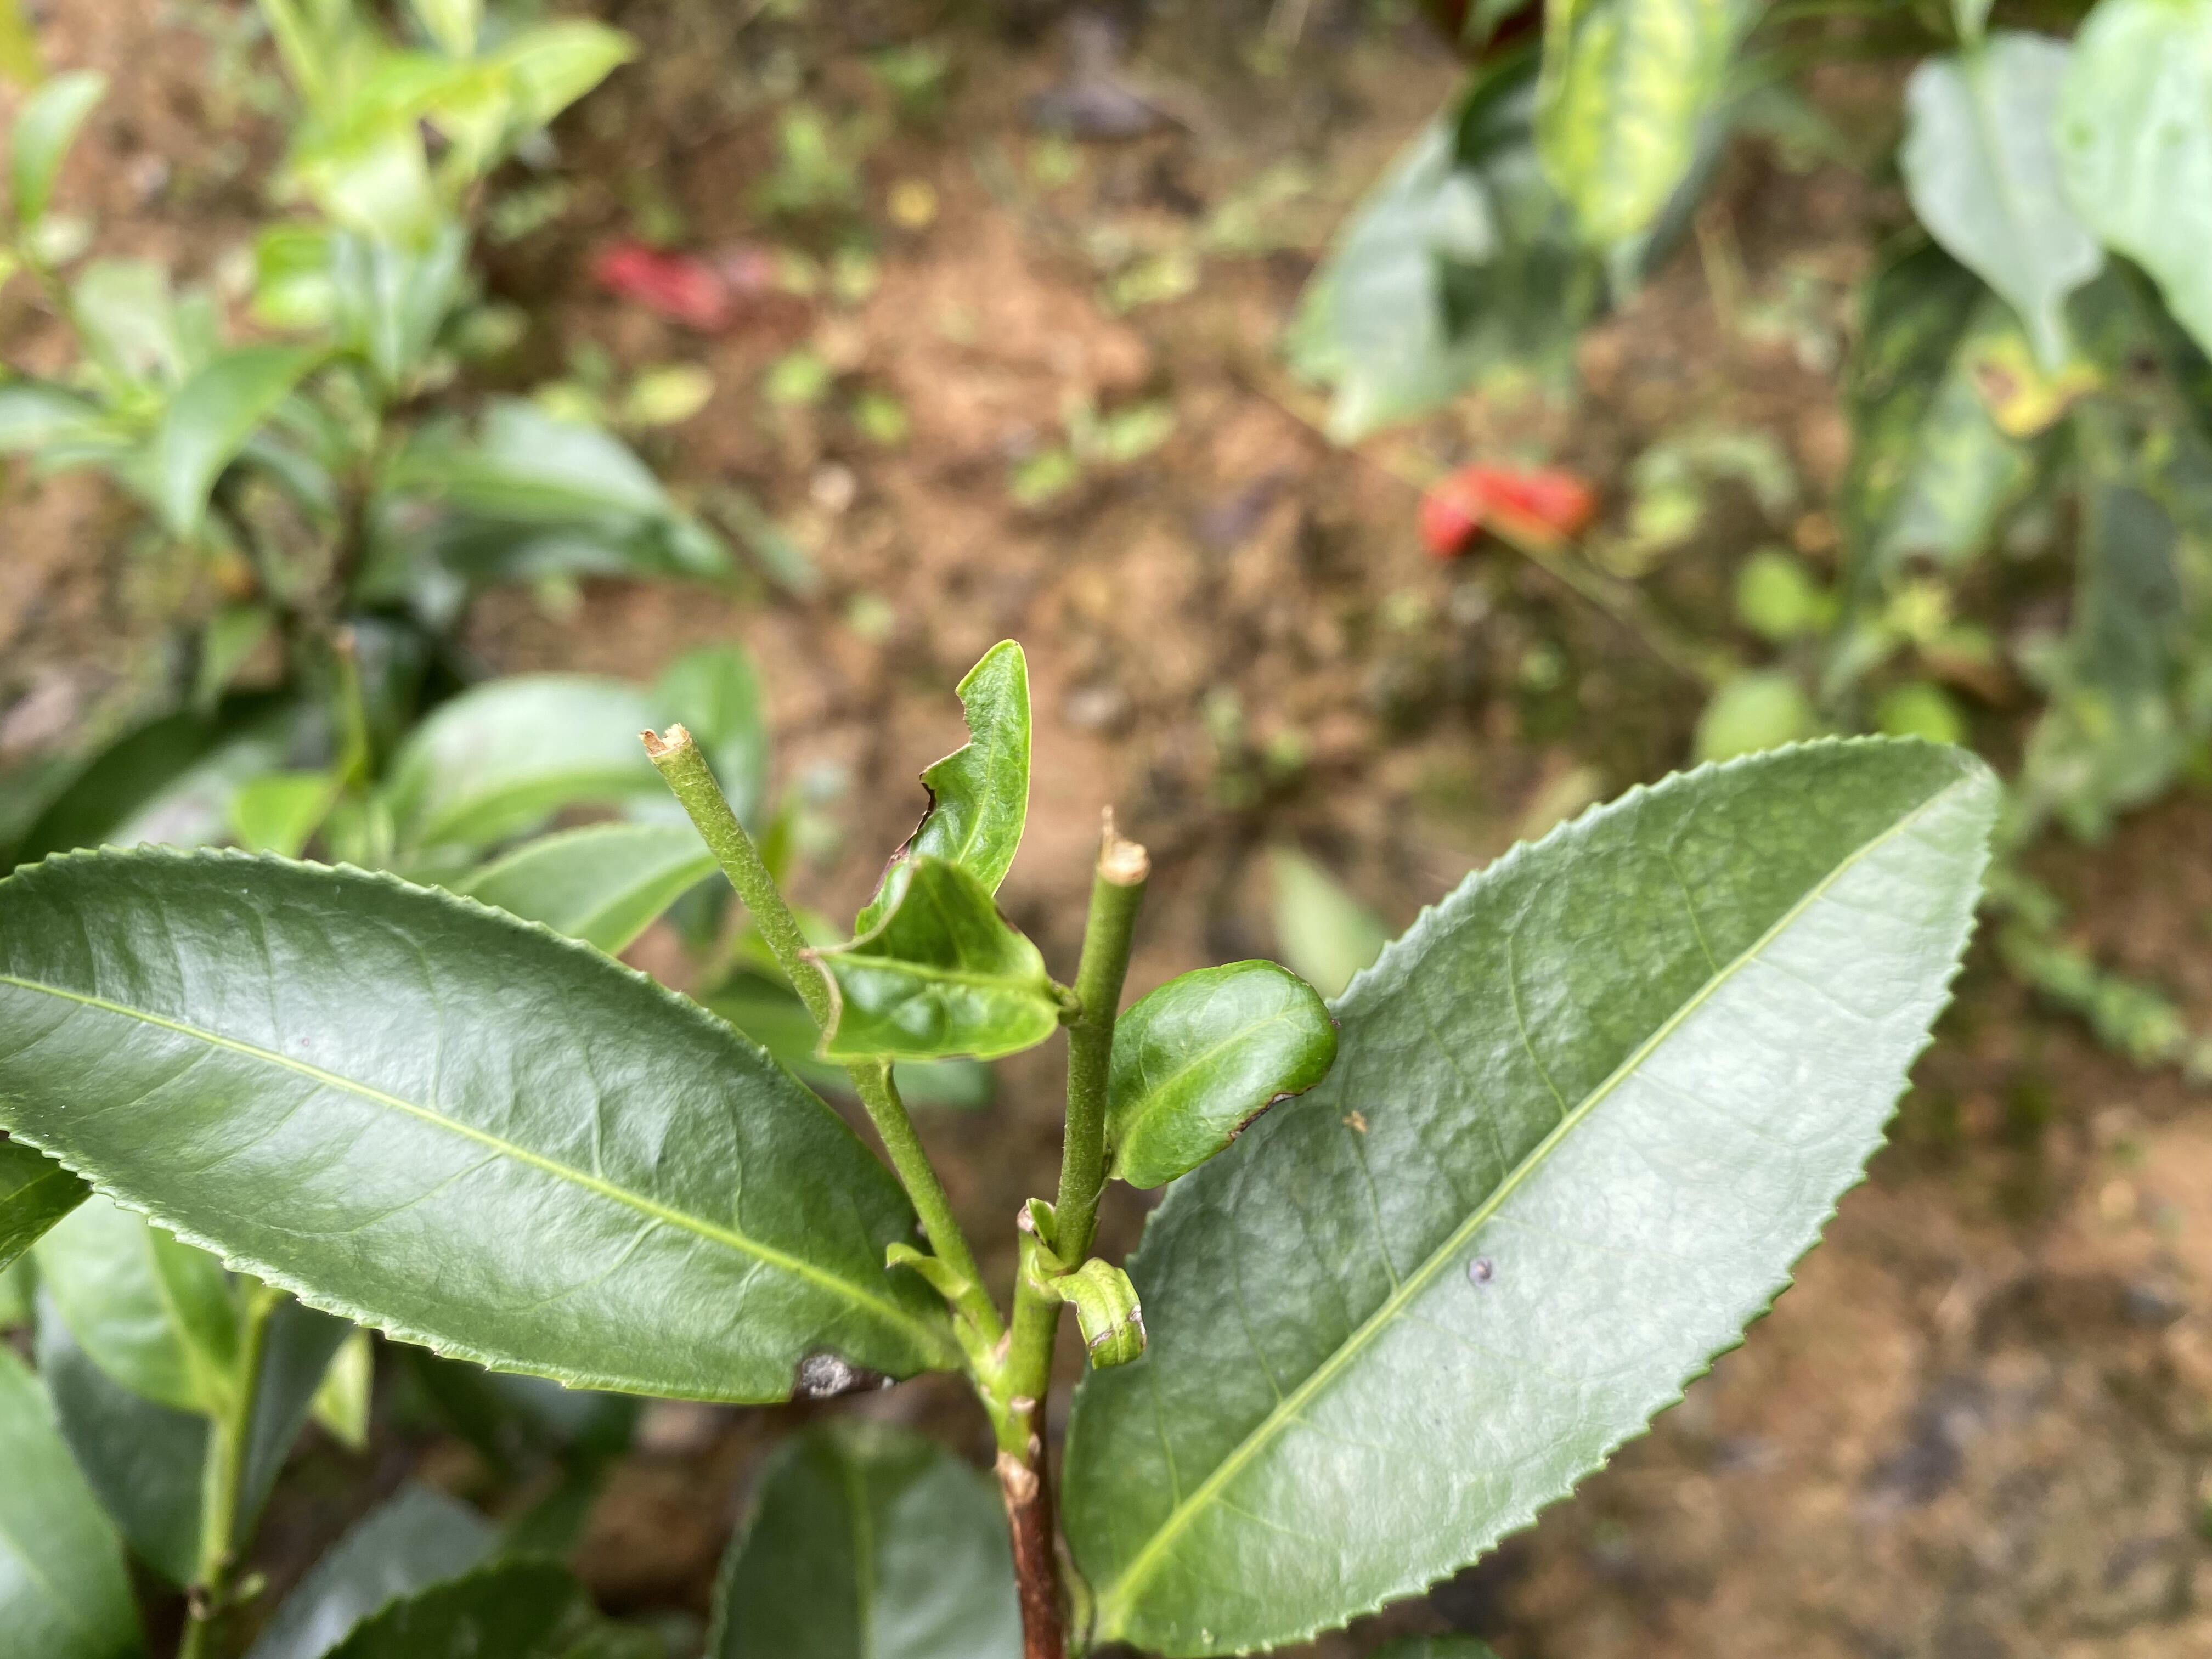chihuo_high: (803, 861, 1069, 1070), (852, 640, 1031, 931)
tanju_high: (3, 845, 958, 1408)
tanju_low: (1057, 735, 2005, 1659)
